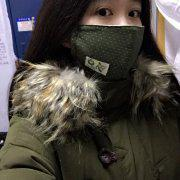OK: (73, 3, 144, 74)
